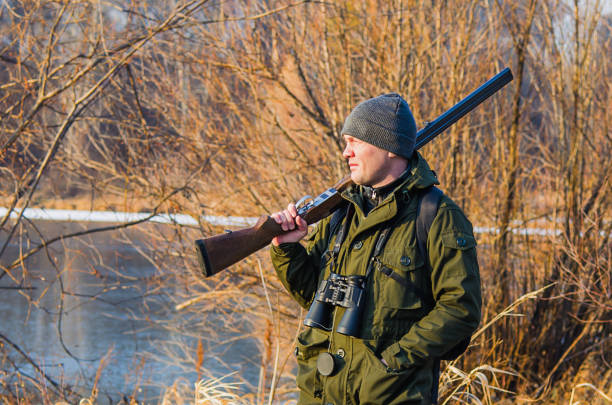gun: (192, 65, 515, 278)
